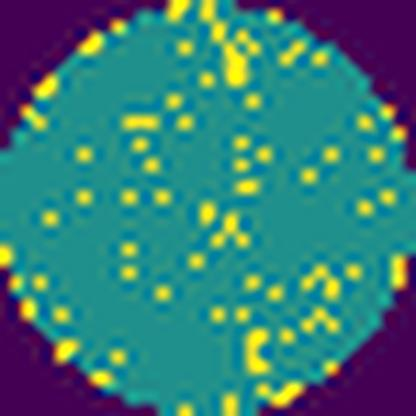Loc: (218, 35, 254, 91), (246, 323, 276, 383)
